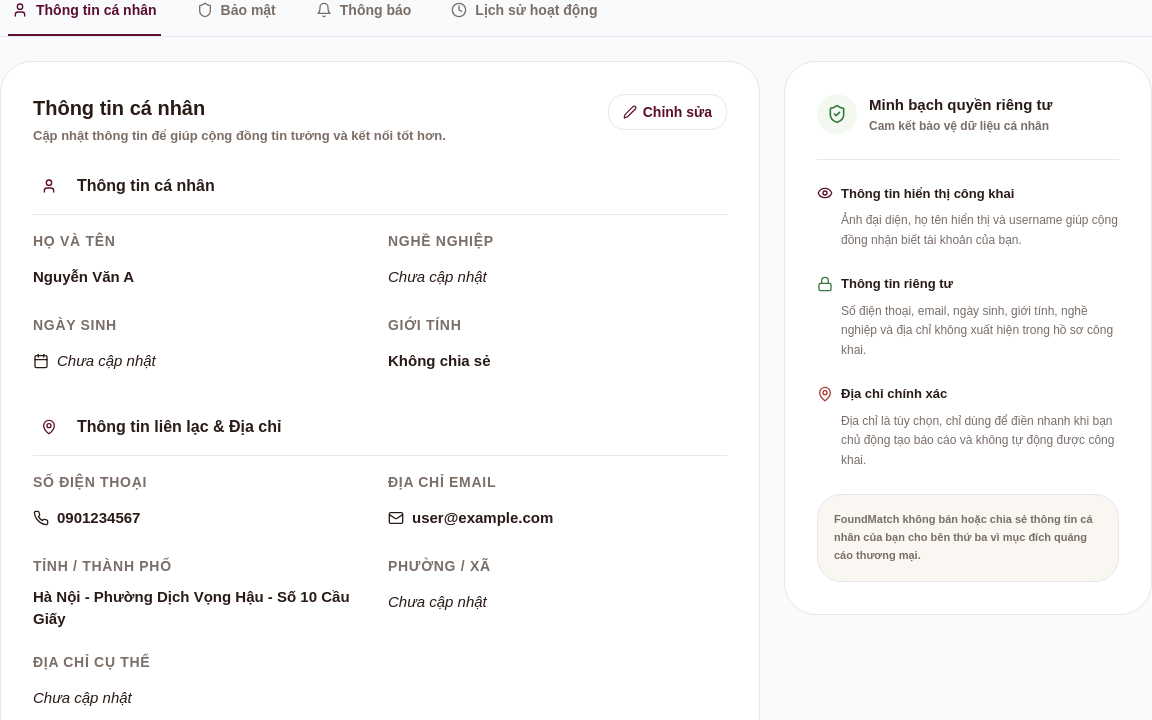
Scenario: Profile Tabs and Modular Components › instantly switches to ProfileNotificationsTab without URL latency
Click the button "Thông báo": coordinates (364, 18) [312,0,415,36]
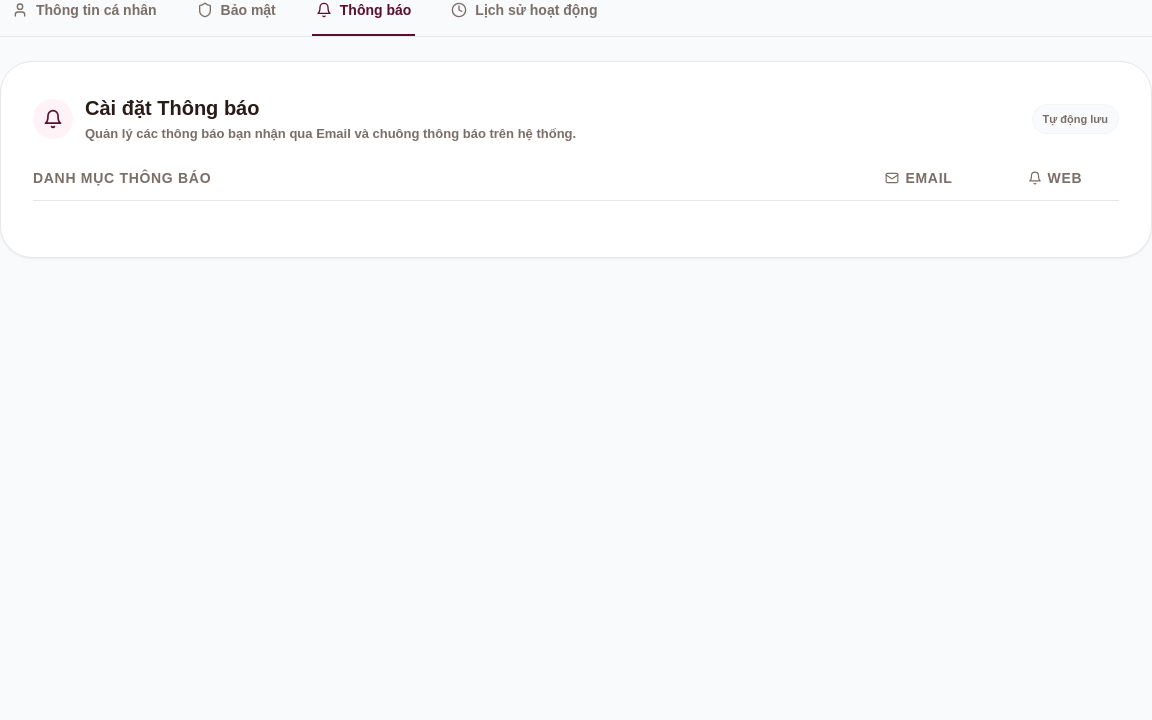
Check: the heading "Cài đặt Thông báo" is shown, box [85,97,259,119]
